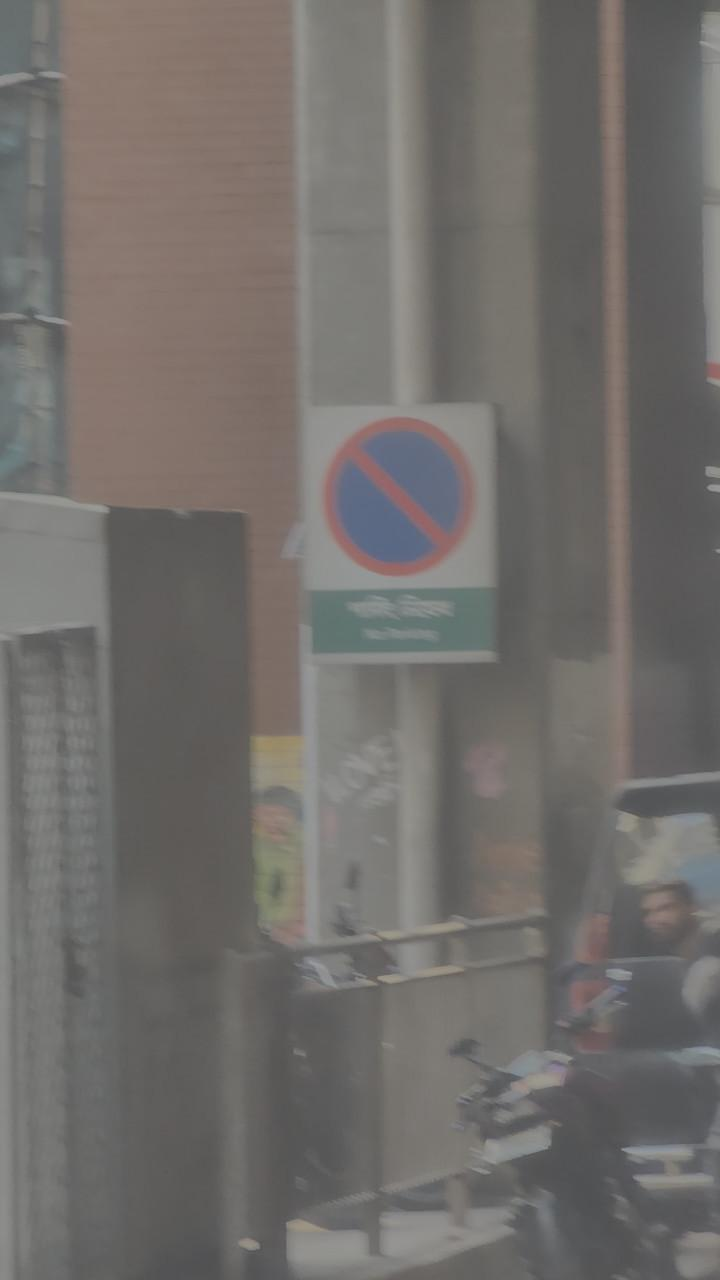No Parking: (302, 399, 501, 666)
